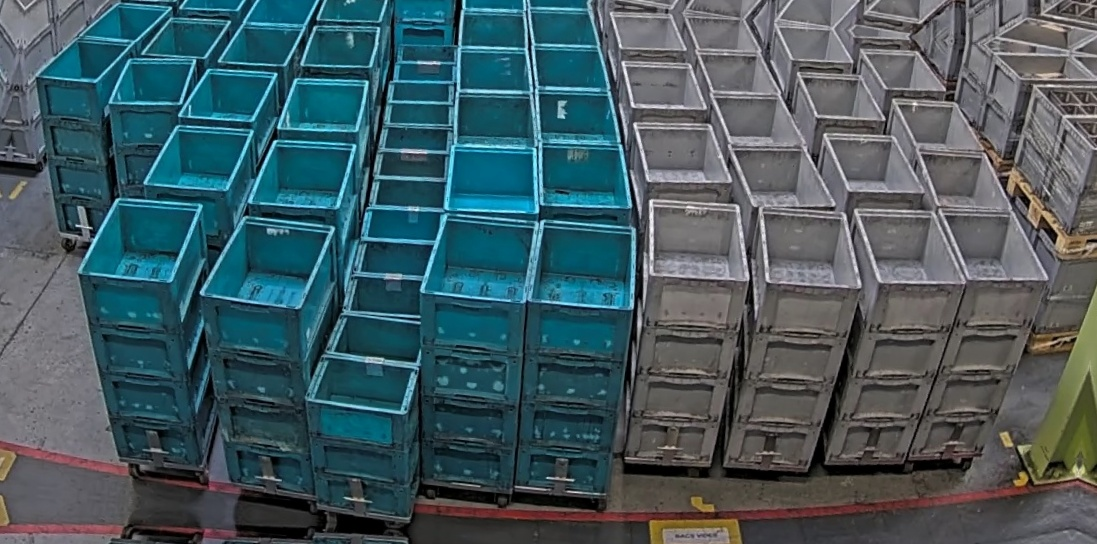4G: (821, 203, 976, 479), (721, 201, 872, 481), (906, 203, 1056, 477), (622, 192, 759, 474)
B4: (55, 191, 234, 473), (177, 208, 346, 503), (398, 209, 545, 496), (510, 216, 644, 504), (97, 48, 202, 210)
B8: (291, 306, 433, 520)
